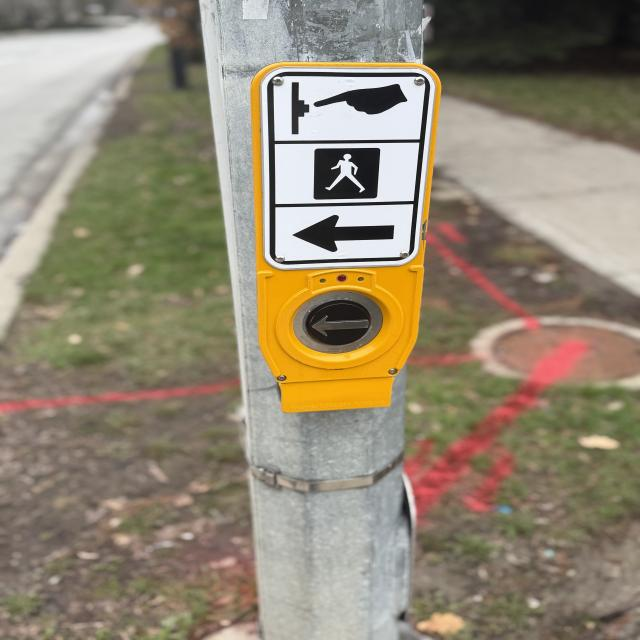Electrical Pole: (194, 2, 450, 640)
